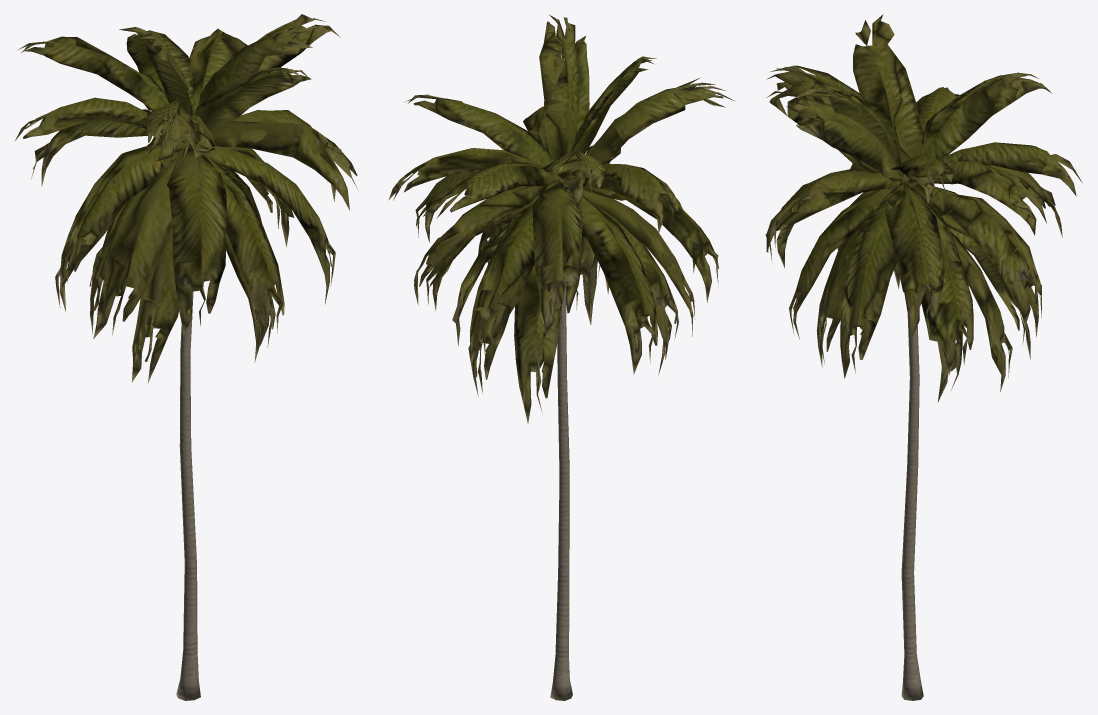
File: javaporcos_mint_jucara.glb
3 views of the same model, side by side, from view 1: azimuth 30°, elevation 25°; view 2: azimuth 150°, elevation 25°; view 3: azimuth 270°, elevation 25° (orthographic). The views are drawn at different scales.
Visible parts, largest first — view 1: Palmeira juçara; view 2: Palmeira juçara; view 3: Palmeira juçara.
Part boxes in pixels (x1,y1,x2,y2): Palmeira juçara: (15,14,358,700); Palmeira juçara: (388,14,734,700); Palmeira juçara: (765,14,1082,700).
Bounding box in the file's own units: 4.17 × 9 × 4.03.
Materials: 1 (1 with a texture image).
